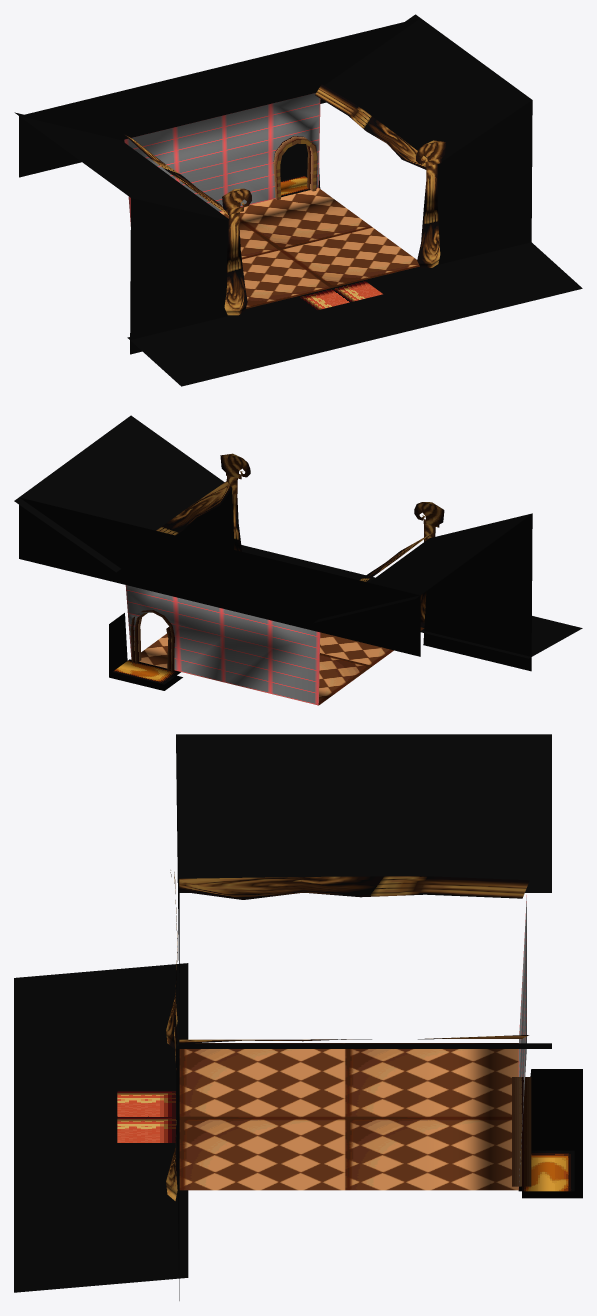
3 views of the same model, one above another, from view 1: azimuth 30°, elevation 25°; view 2: azimuth 150°, elevation 25°; view 3: azimuth 270°, elevation 25° (orthographic). The views are drawn at different scales.
Parts seen in each view (by area): view 1: sh_pc_s00; view 2: sh_pc_s00; view 3: sh_pc_s00.
Part boxes in pixels (box(x1,y1,x2,y2)): sh_pc_s00: box(14, 14, 582, 386); sh_pc_s00: box(14, 415, 582, 705); sh_pc_s00: box(14, 734, 582, 1300).
Size of the model in its own units: 9 by 3.37 by 6.88.
7 materials, 7 textured.
